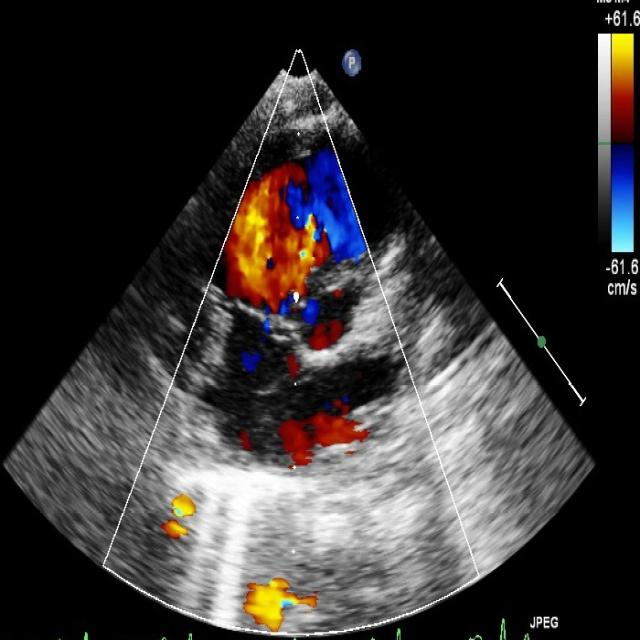VSDType2: (225, 162, 317, 469)
